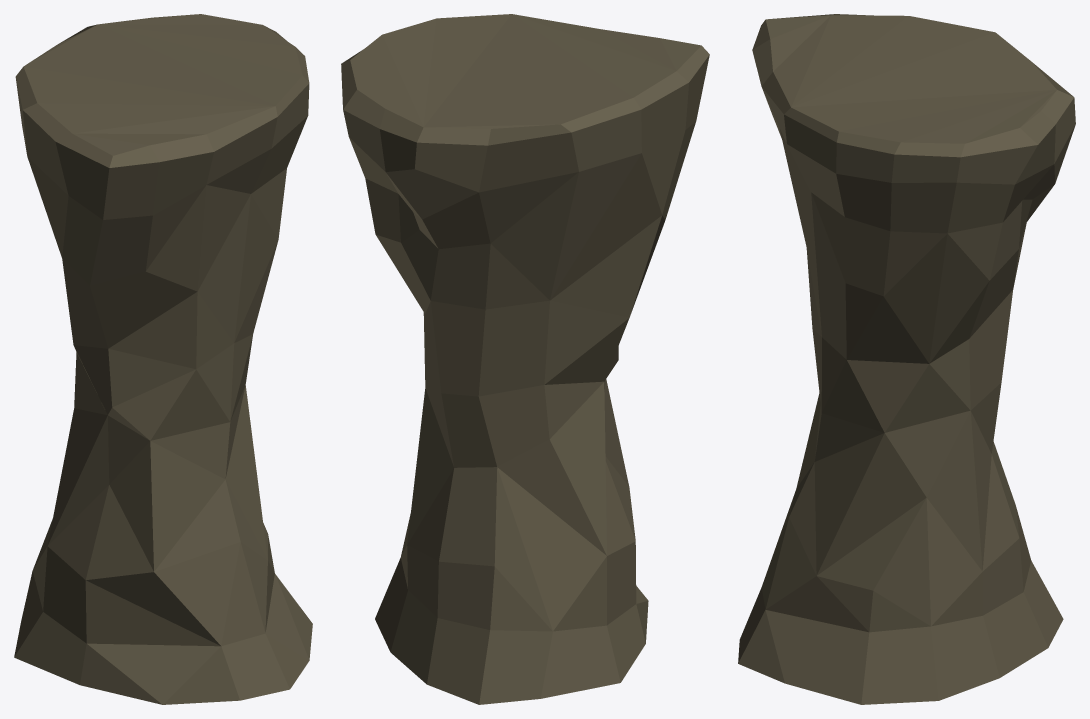
Rendered from Pillar-A05.fbx.
3 views of the same model, side by side, from view 1: azimuth 30°, elevation 25°; view 2: azimuth 150°, elevation 25°; view 3: azimuth 270°, elevation 25° (orthographic).
Parts seen in each view (by area): view 1: Pillar-A05; view 2: Pillar-A05; view 3: Pillar-A05.
Boxes of the visible parts, <box> form: Pillar-A05: <box>14,14,312,704</box>; Pillar-A05: <box>341,14,709,704</box>; Pillar-A05: <box>738,14,1075,704</box>.
Bounding box in the file's own units: 208 × 214 × 397.
